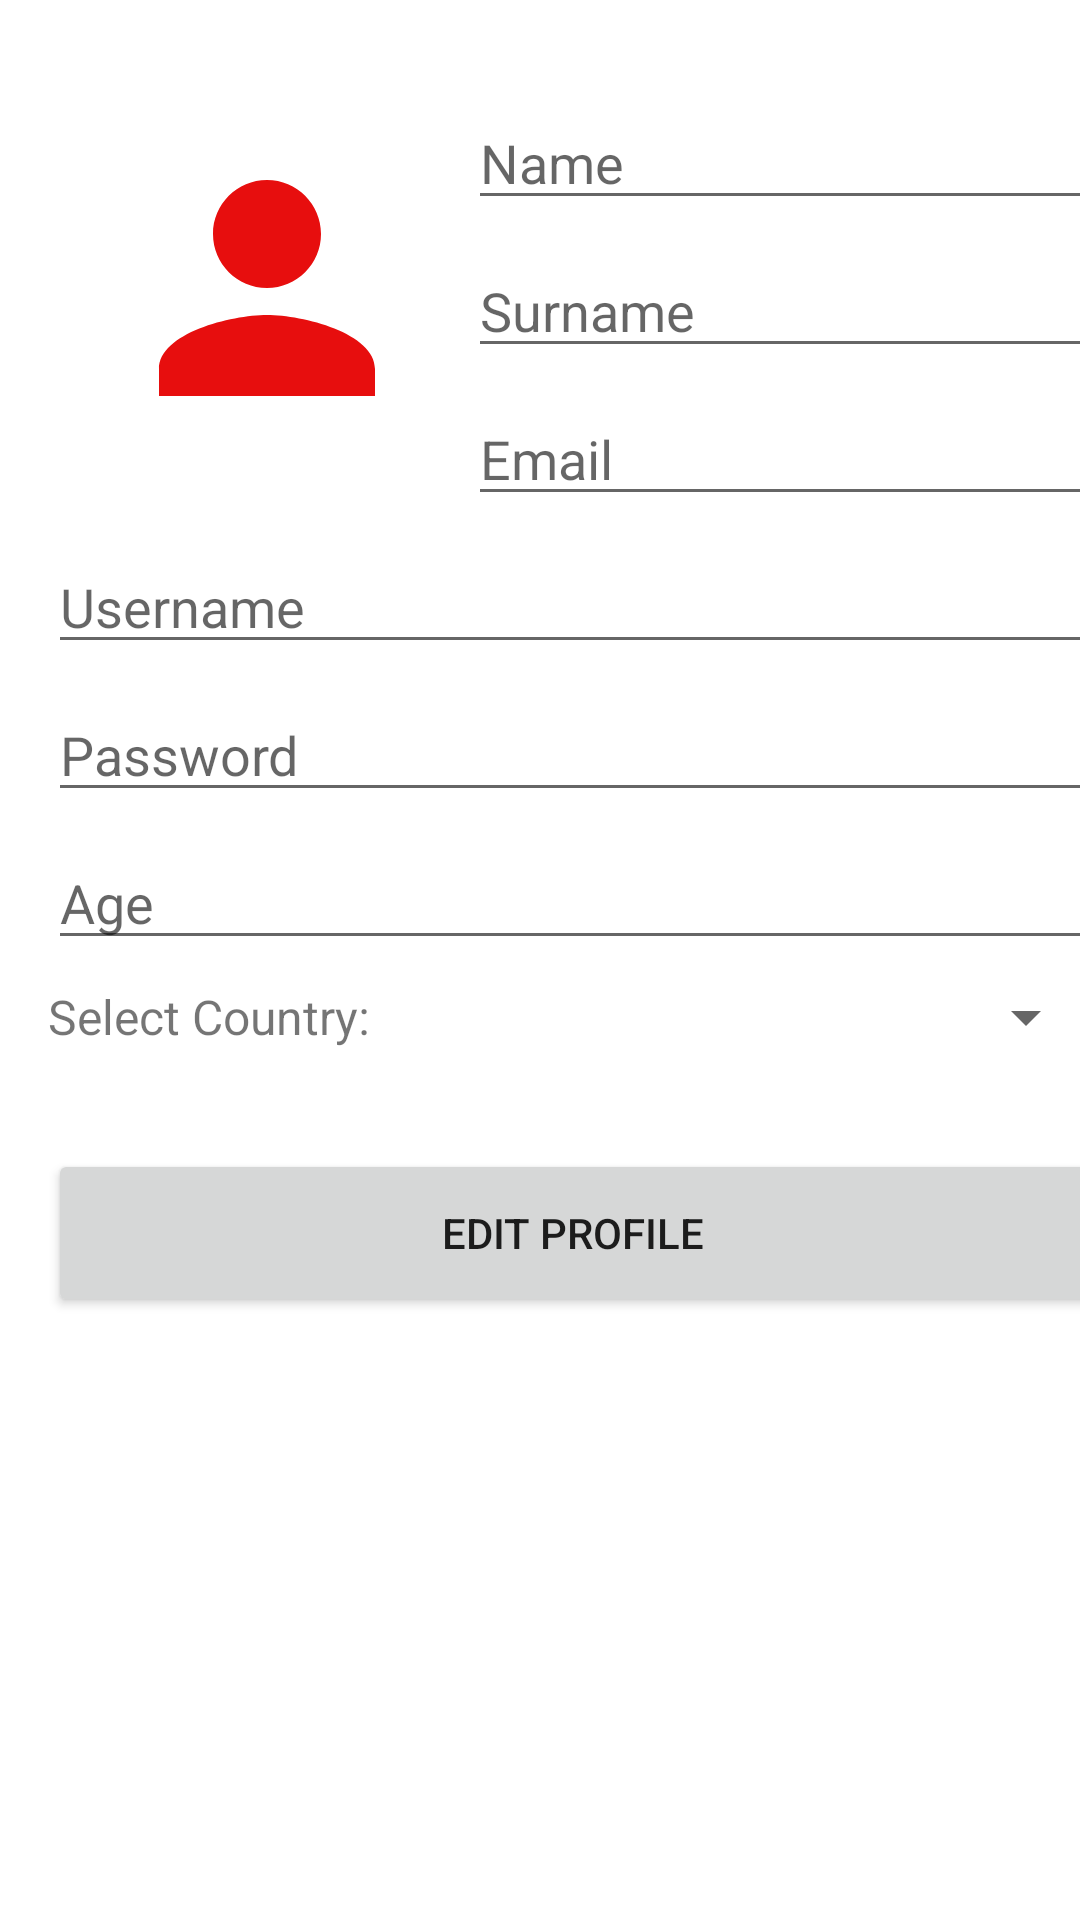

Screen size 1080x1920. Icon name, then its box in pixels as bbox(x1, y1, x2, y2):
Select photo: bbox(159, 180, 375, 396)
